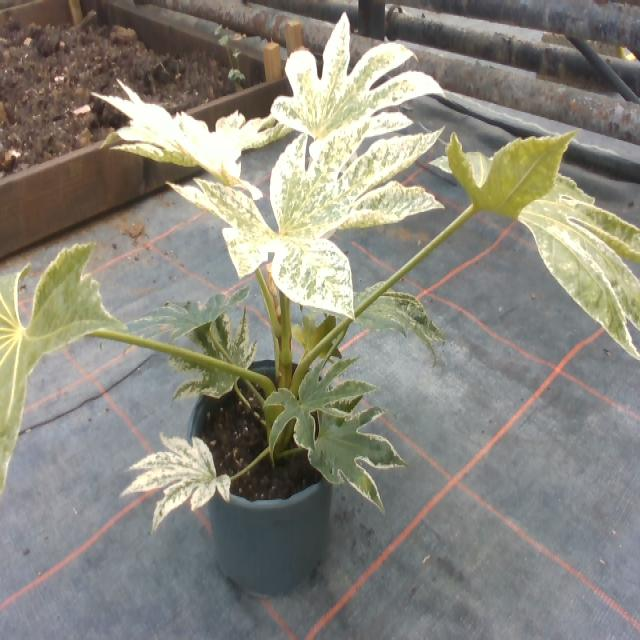Fatsia-japonica: (426, 114, 640, 354), (205, 128, 442, 314), (0, 239, 132, 495), (276, 21, 424, 144), (107, 77, 244, 189), (290, 408, 409, 502), (262, 351, 373, 450), (334, 273, 452, 355), (128, 435, 232, 519), (170, 316, 258, 402), (138, 283, 252, 334), (206, 104, 292, 153)
